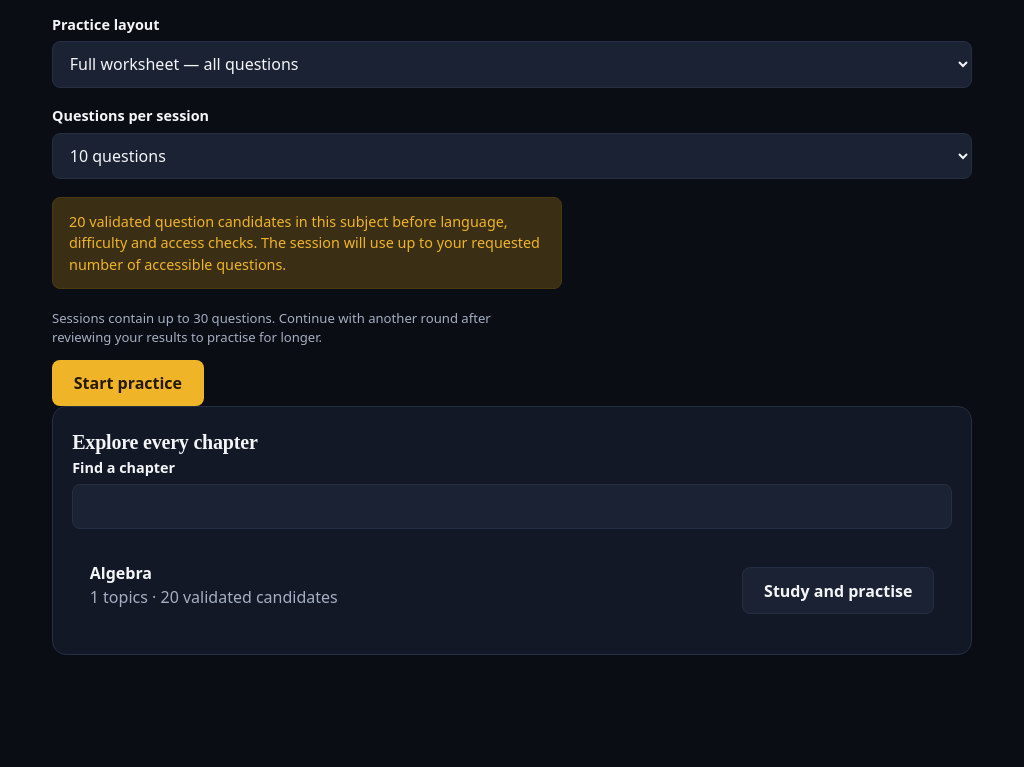
shows actual accessible session size and valid server expiry
(page scrolled)
Expected: the button "Study and practise" is shown, [742,567,934,614]
Click the button "Start practice".
click(128, 383)  # box [52,360,204,406]
(page scrolled)
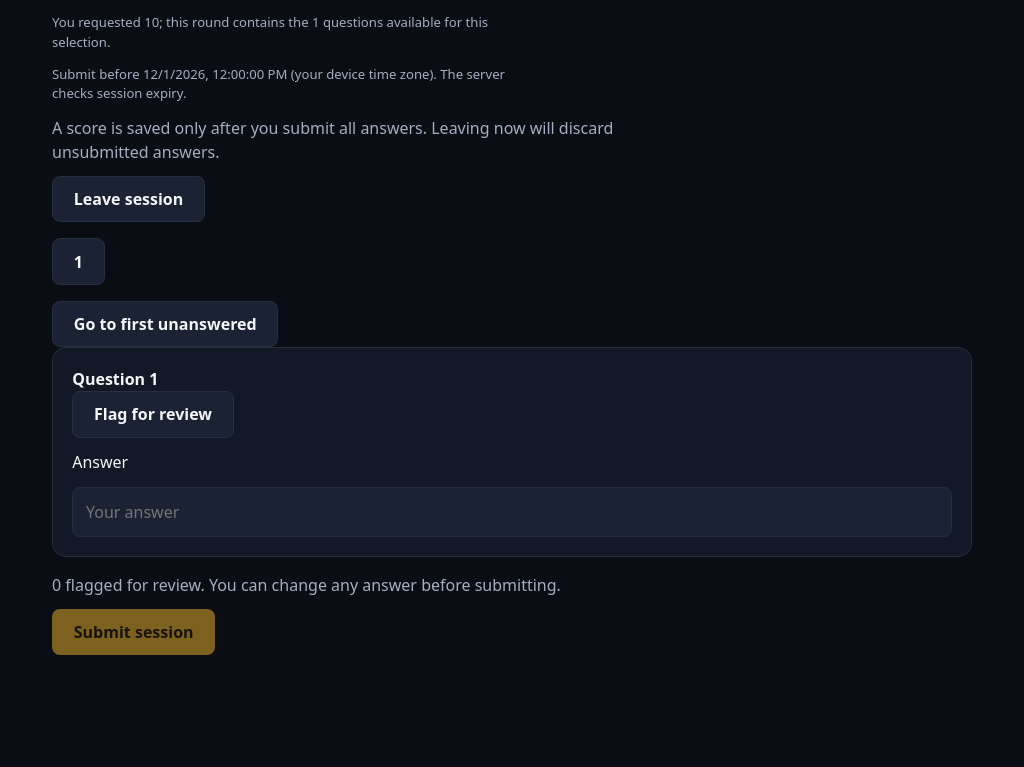
Result: the text "You requested 10; this round" is shown at [52,13,517,53]
Result: the text "The server checks session expiry" is shown at [52,65,505,102]
